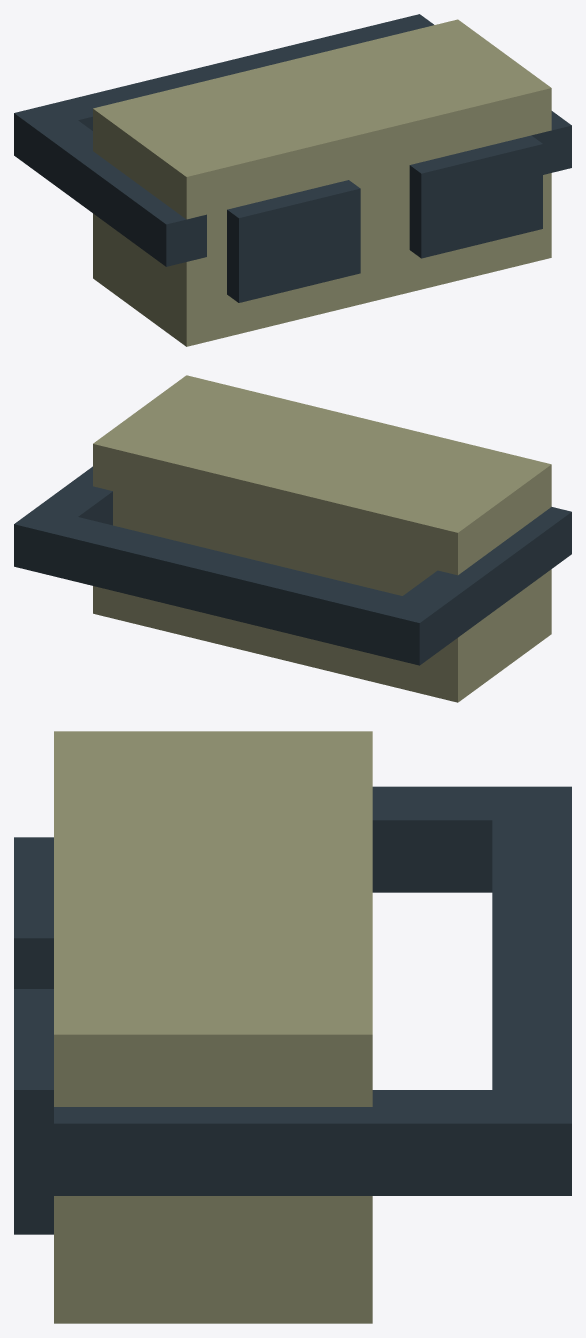
File: chemistry-05.glb
The picture shows the model from 3 angles, top to bottom: view 1: azimuth 30°, elevation 25°; view 2: azimuth 150°, elevation 25°; view 3: azimuth 270°, elevation 25°; orthographic projection. The views are drawn at different scales.
Parts seen in each view (by area): view 1: Safety goggles; view 2: Safety goggles; view 3: Safety goggles.
Boxes of the visible parts, box(x1,y1,x2,y2) form: Safety goggles: box(14, 14, 571, 346); Safety goggles: box(14, 375, 571, 702); Safety goggles: box(14, 731, 571, 1323).
Size of the model in its own units: 1.6 by 0.64 by 1.12.
